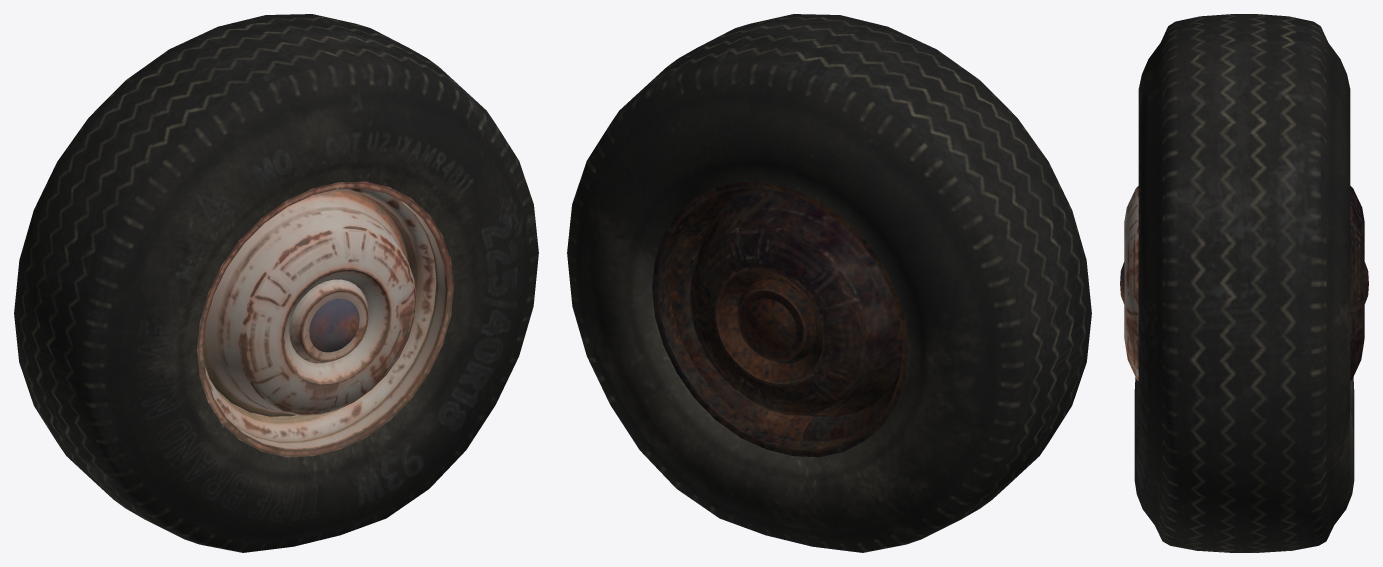
Rendered from F100_1967_WheelFront.glb.
3 views of the same model, side by side, from view 1: azimuth 30°, elevation 25°; view 2: azimuth 150°, elevation 25°; view 3: azimuth 270°, elevation 25° (orthographic).
Visible parts, largest first — view 1: F100_WheelFL; view 2: F100_WheelFL; view 3: F100_WheelFL.
Boxes of the visible parts, x1,y1,x2,y2 form: F100_WheelFL: [14, 14, 538, 552]; F100_WheelFL: [567, 14, 1091, 552]; F100_WheelFL: [1120, 14, 1368, 552].
Size of the model in its own units: 47.96 by 46.93 by 22.04.
1 material, 1 textured.
